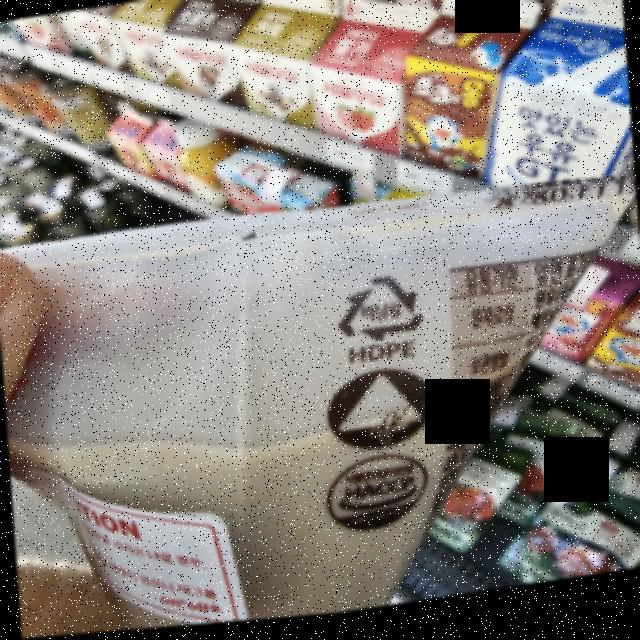Vinyl: (330, 274, 430, 354)
